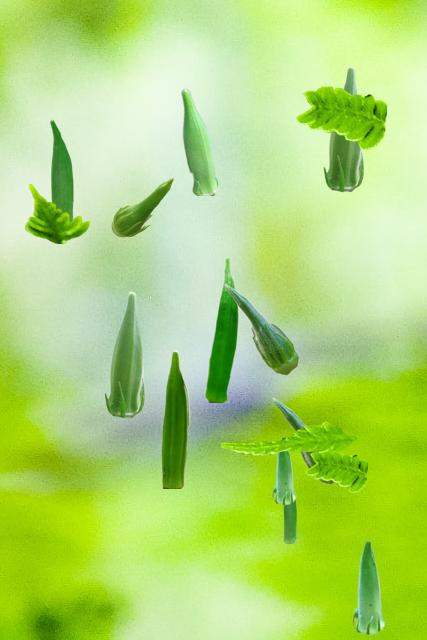okra: (224, 283, 298, 374), (272, 397, 333, 483), (104, 291, 144, 417), (323, 65, 363, 191), (204, 256, 238, 401), (180, 88, 217, 194), (161, 349, 189, 487), (111, 177, 173, 236), (352, 540, 384, 634), (50, 119, 72, 220), (272, 436, 295, 504), (283, 501, 295, 542)
